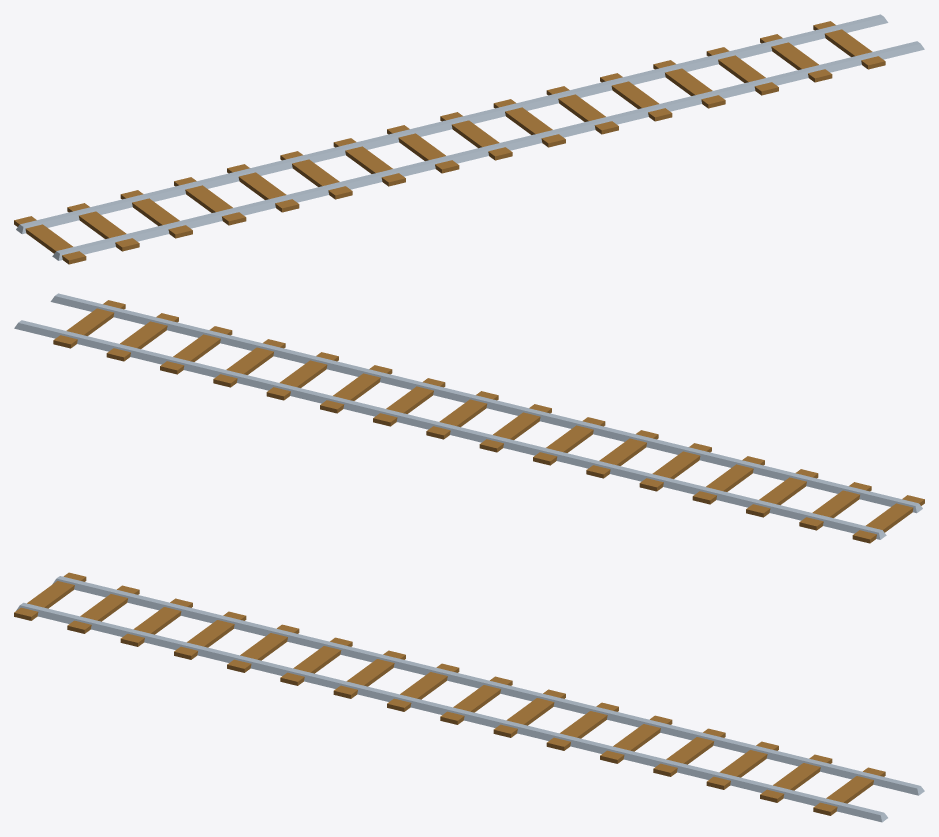
File: Rail1.fbx
3 renders of one model, top to bottom at view 1: azimuth 30°, elevation 25°; view 2: azimuth 150°, elevation 25°; view 3: azimuth 330°, elevation 25°, orthographic.
Visible parts, largest first — view 1: Rail1; view 2: Rail1; view 3: Rail1.
Part boxes in pixels (bbox=[...]): Rail1: bbox=[14, 14, 924, 264]; Rail1: bbox=[14, 293, 924, 543]; Rail1: bbox=[14, 572, 924, 822].
Bounding box in the file's own units: 992 × 6.3 × 109.
